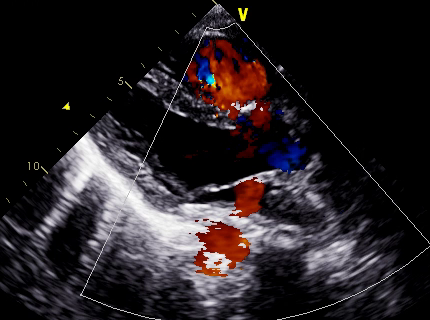AR: (221, 122, 272, 168)
